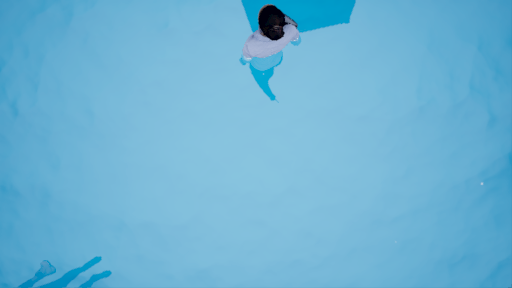person: (235, 2, 305, 99)
